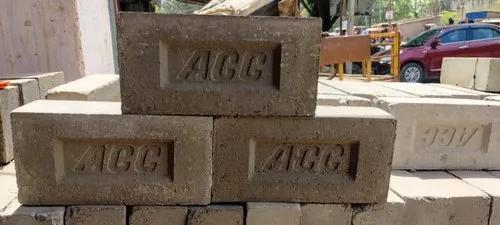brick: (119, 12, 323, 115), (11, 114, 211, 205), (212, 114, 395, 205), (394, 102, 500, 171)
